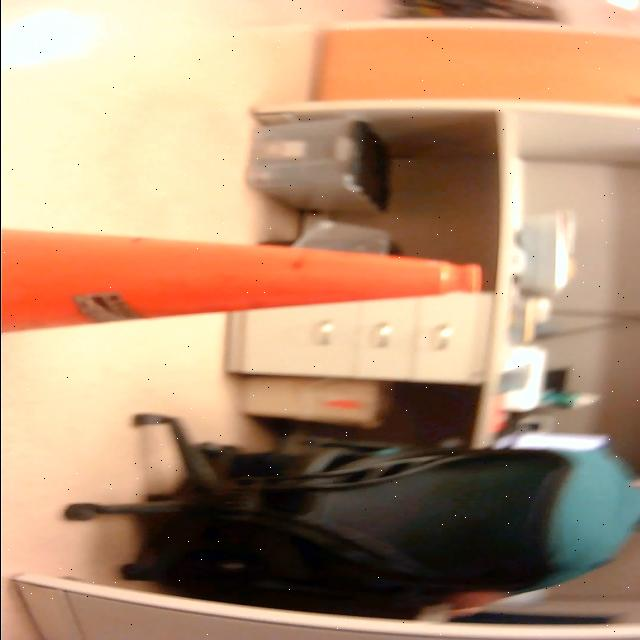traffic cone: (1, 217, 492, 341)
